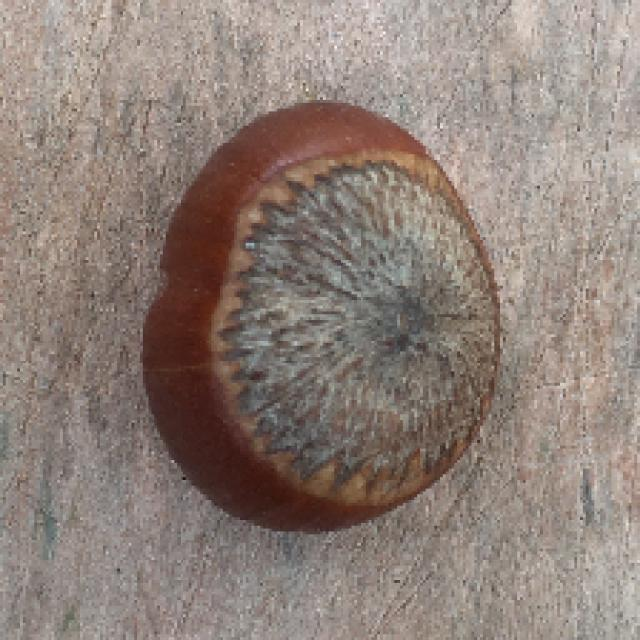damagedHazelnut: (142, 98, 506, 545)
